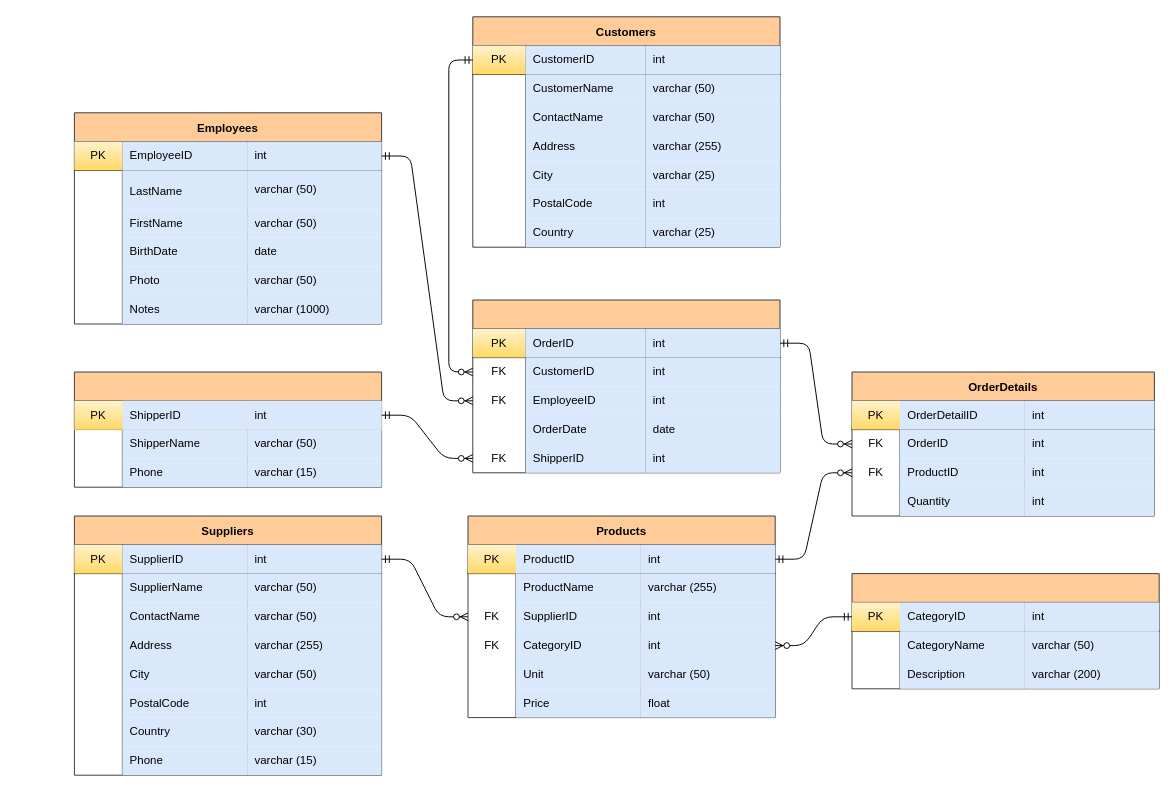
The diagram is 1176 pixels wide and 792 high, and some of its shapes have lost their labels. Here are the shapes that lost their labels. From the top down, the box of each, then its label:
(472, 299, 780, 473): Orders
(73, 371, 382, 487): Shippers
(851, 573, 1159, 689): Categories
